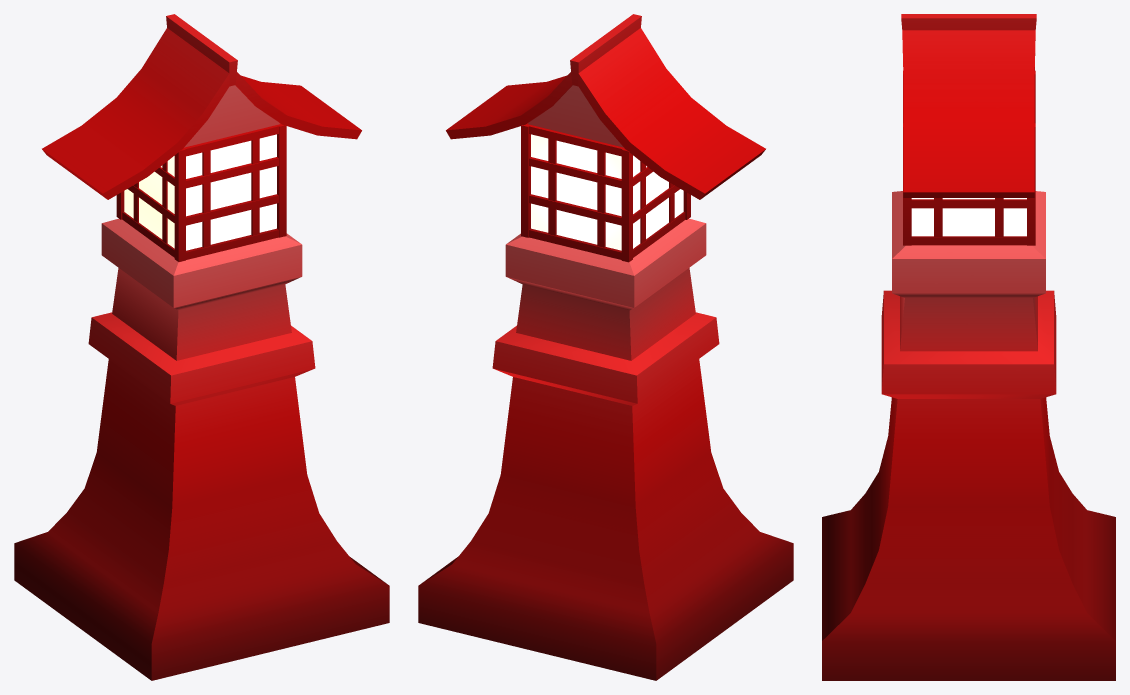
Rendered from TRF0610006.fbx.
3 views of the same model, side by side, from view 1: azimuth 30°, elevation 25°; view 2: azimuth 150°, elevation 25°; view 3: azimuth 270°, elevation 25° (orthographic). The views are drawn at different scales.
Visible parts, largest first — view 1: smTRF0610006; view 2: smTRF0610006; view 3: smTRF0610006.
Boxes of the visible parts, <box> form: smTRF0610006: <box>14,14,389,680</box>; smTRF0610006: <box>418,14,793,680</box>; smTRF0610006: <box>822,14,1115,680</box>.
Bounding box in the file's own units: 365 × 758 × 335.
1 material, 1 textured.
